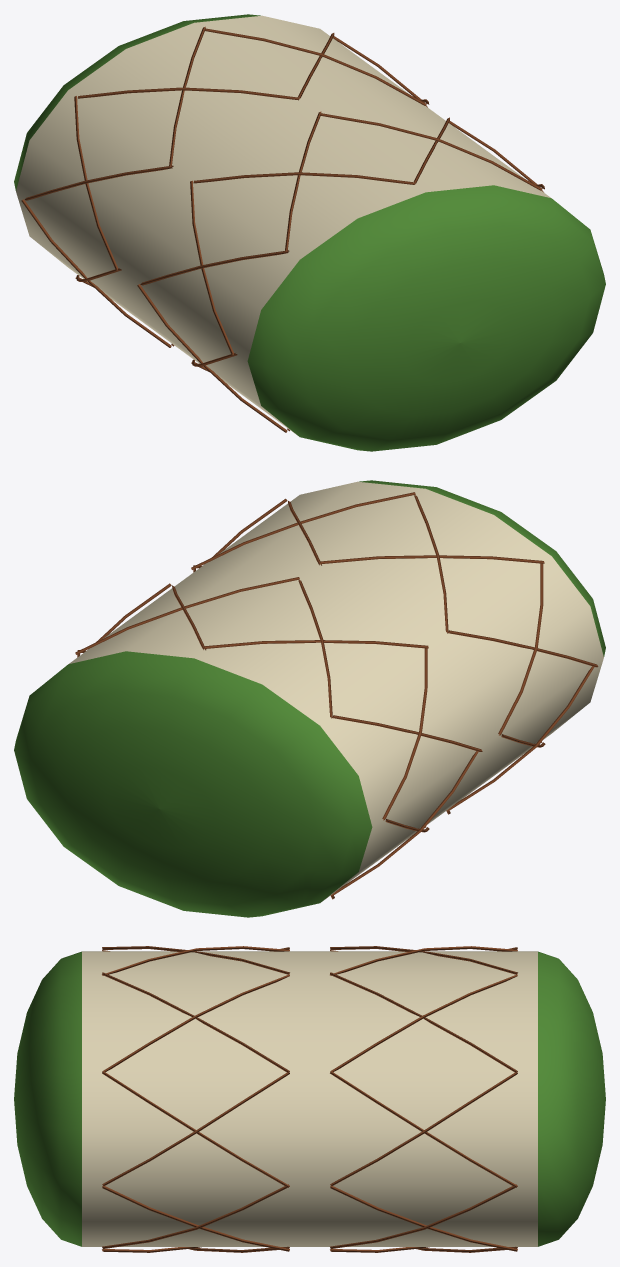
The model's file is pod100_hull.obj.
3 renders of one model, top to bottom at view 1: azimuth 30°, elevation 25°; view 2: azimuth 150°, elevation 25°; view 3: azimuth 270°, elevation 25°, orthographic.
Parts seen in each view (by area): view 1: pod100_hull; view 2: pod100_hull; view 3: pod100_hull.
Part boxes in pixels (bbox=[...]): pod100_hull: bbox=[14, 14, 605, 451]; pod100_hull: bbox=[14, 480, 605, 917]; pod100_hull: bbox=[14, 946, 605, 1252].
Bounding box in the file's own units: 7.03 × 4.75 × 10.
